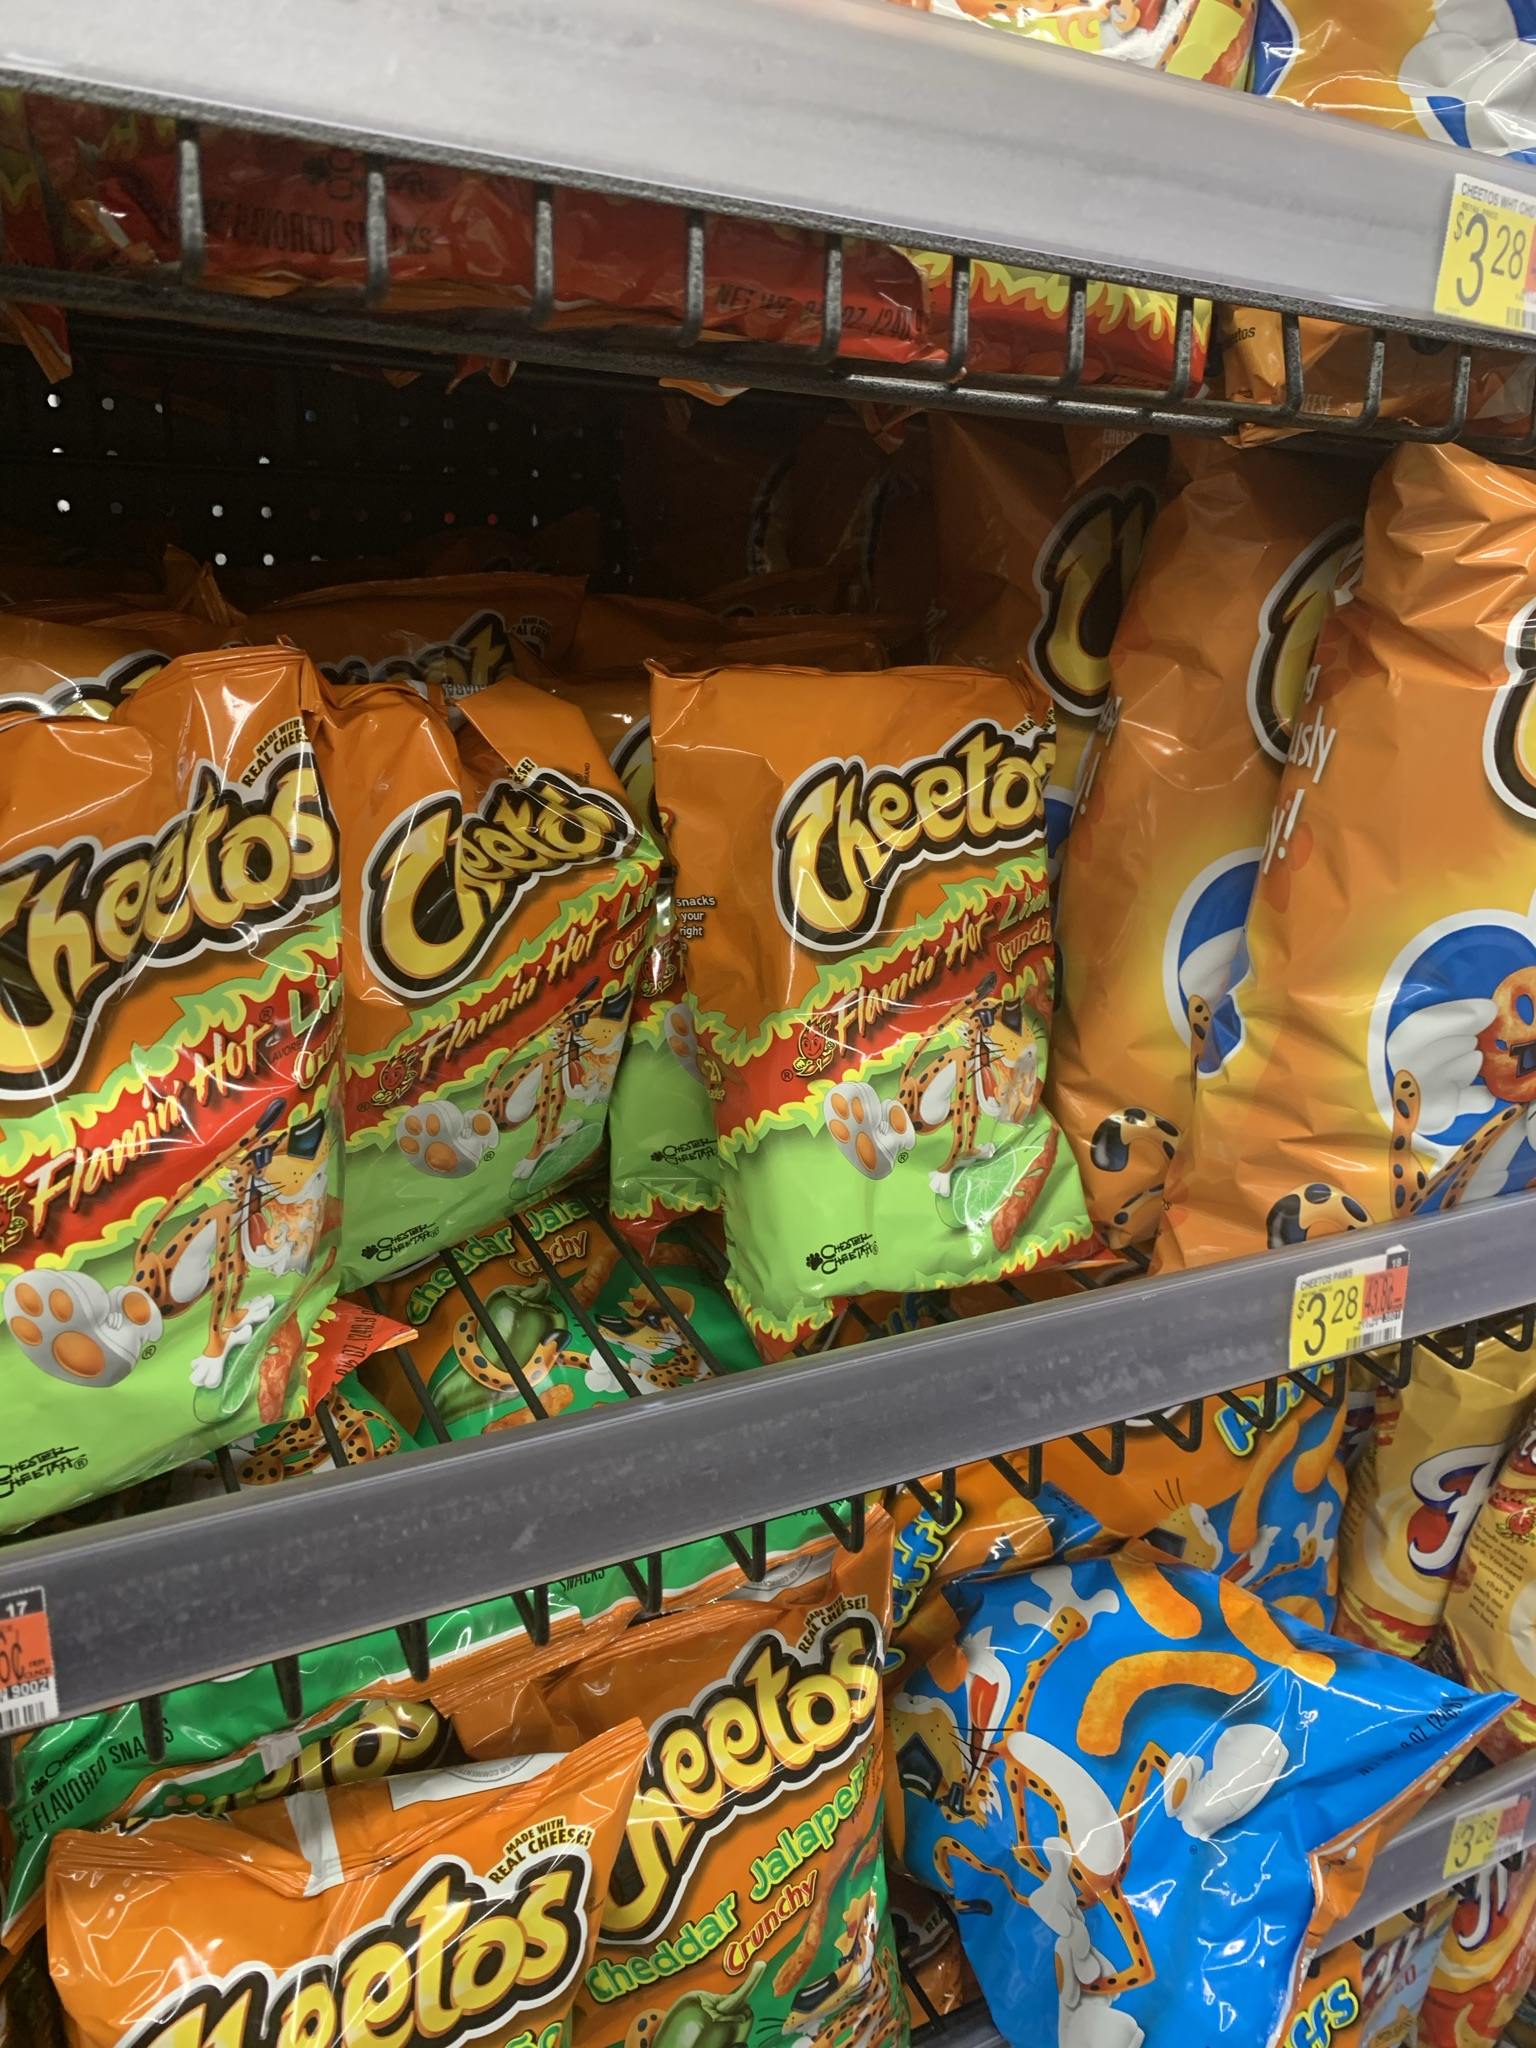Chips: (697, 685, 1084, 1279)
